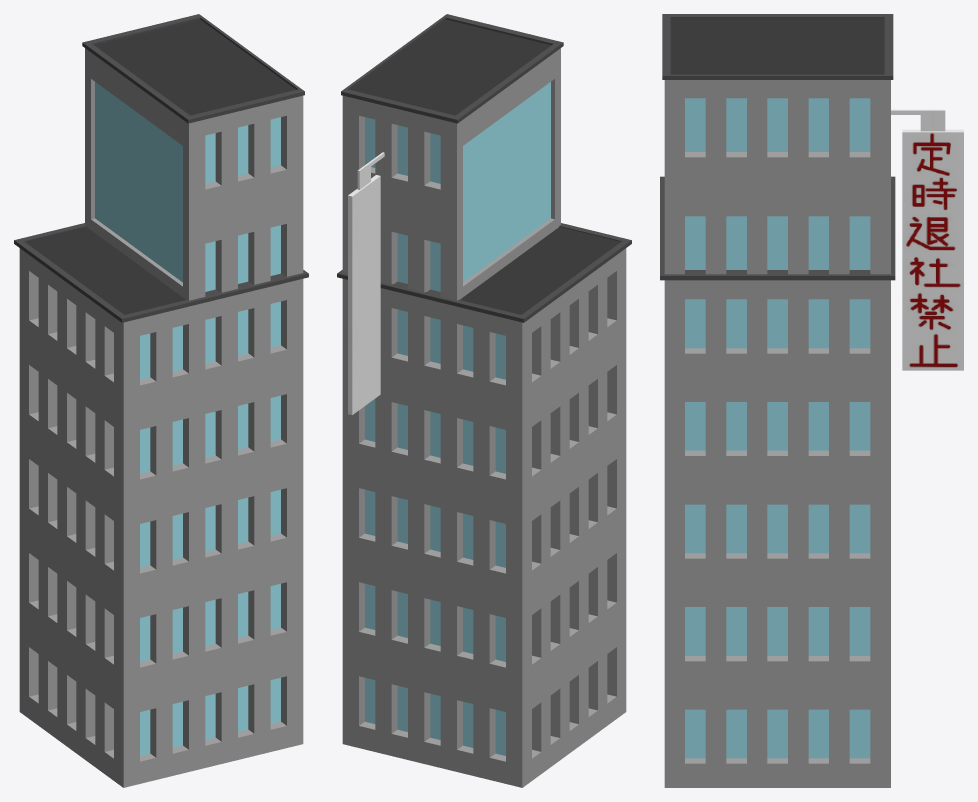
Rendered from build5.fbx.
The picture shows the model from 3 angles, left to right: view 1: azimuth 30°, elevation 25°; view 2: azimuth 150°, elevation 25°; view 3: azimuth 270°, elevation 25°; orthographic projection. The views are drawn at different scales.
Parts seen in each view (by area): view 1: build5; view 2: build5, sign; view 3: build5, sign.
Boxes of the visible parts, <box> form: build5: <box>14,14,308,787</box>; build5: <box>337,14,631,787</box>; sign: <box>348,152,384,414</box>; build5: <box>660,14,895,787</box>; sign: <box>891,109,963,370</box>.
Bounding box in the file's own units: 664 × 514 × 1718.
